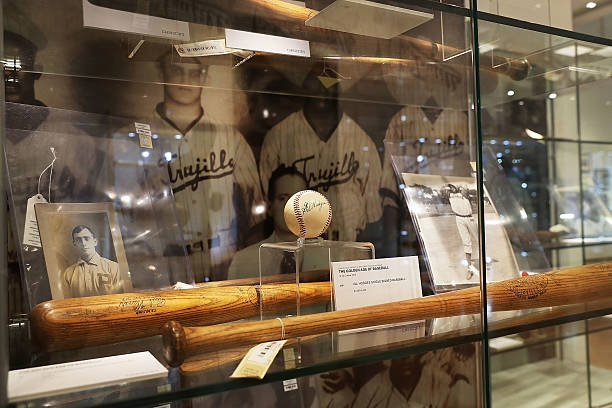bita: (165, 262, 612, 363)
